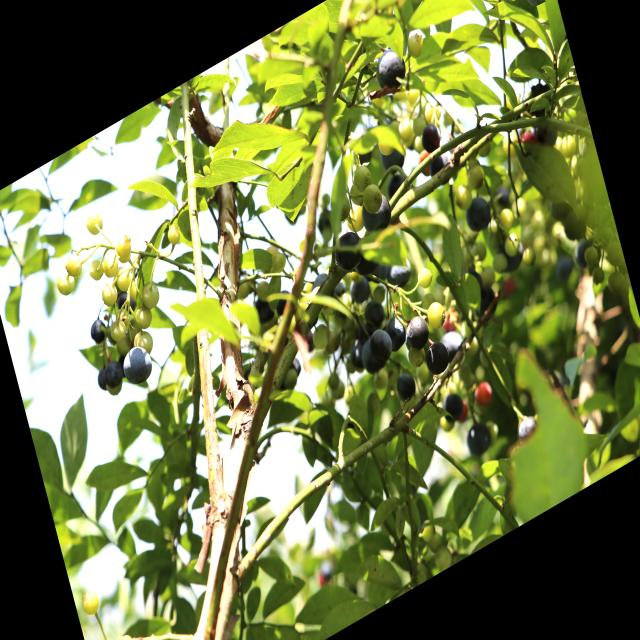blueberry: (367, 40, 412, 99), (118, 333, 155, 391), (330, 224, 367, 278), (424, 141, 461, 194), (358, 186, 394, 240), (491, 226, 527, 278), (375, 132, 410, 180), (468, 279, 502, 326), (462, 415, 495, 461), (357, 329, 386, 379), (462, 192, 494, 237), (402, 309, 432, 354), (422, 336, 451, 380), (368, 323, 396, 368), (571, 234, 602, 274), (380, 311, 408, 355), (438, 324, 467, 366), (351, 240, 382, 279), (438, 384, 466, 426), (384, 252, 413, 291), (307, 270, 335, 310), (345, 333, 370, 375), (393, 366, 418, 406), (113, 283, 139, 321), (418, 120, 443, 157), (361, 296, 386, 332), (384, 167, 409, 203), (102, 356, 126, 391), (348, 270, 372, 304), (516, 0, 558, 19), (491, 180, 514, 212), (88, 315, 109, 348), (94, 364, 108, 396)
blueberry-halfripe: (472, 377, 494, 409)
blueberry-unripe: (424, 295, 448, 333), (139, 276, 162, 314), (54, 264, 78, 300), (360, 181, 384, 215), (82, 208, 106, 242), (132, 325, 156, 358), (309, 321, 331, 354), (80, 587, 102, 620), (351, 160, 373, 192), (98, 279, 120, 310), (64, 251, 85, 283), (133, 302, 154, 334), (107, 316, 128, 346), (114, 232, 134, 262), (100, 250, 120, 280), (86, 255, 106, 285), (113, 303, 132, 333), (114, 264, 133, 293), (270, 248, 288, 277), (165, 221, 182, 249), (416, 265, 434, 291), (125, 632, 149, 640), (154, 637, 179, 640)
